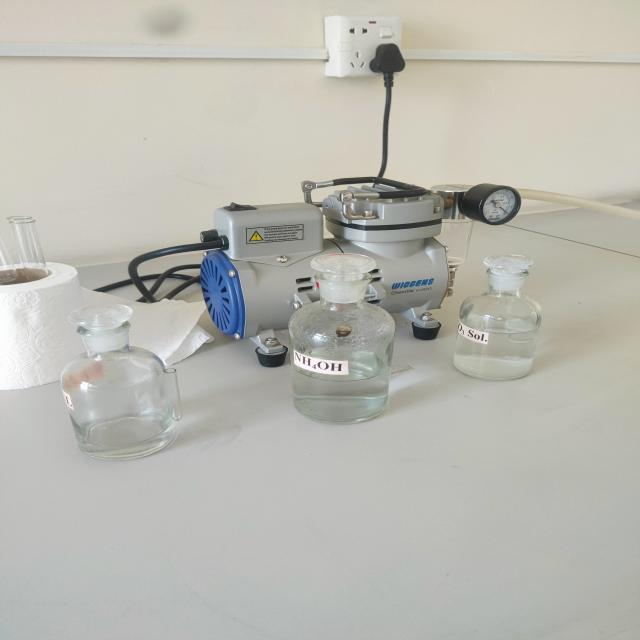Reagent_Bottle: (256, 240, 422, 448), (35, 287, 208, 474), (444, 226, 560, 396)
